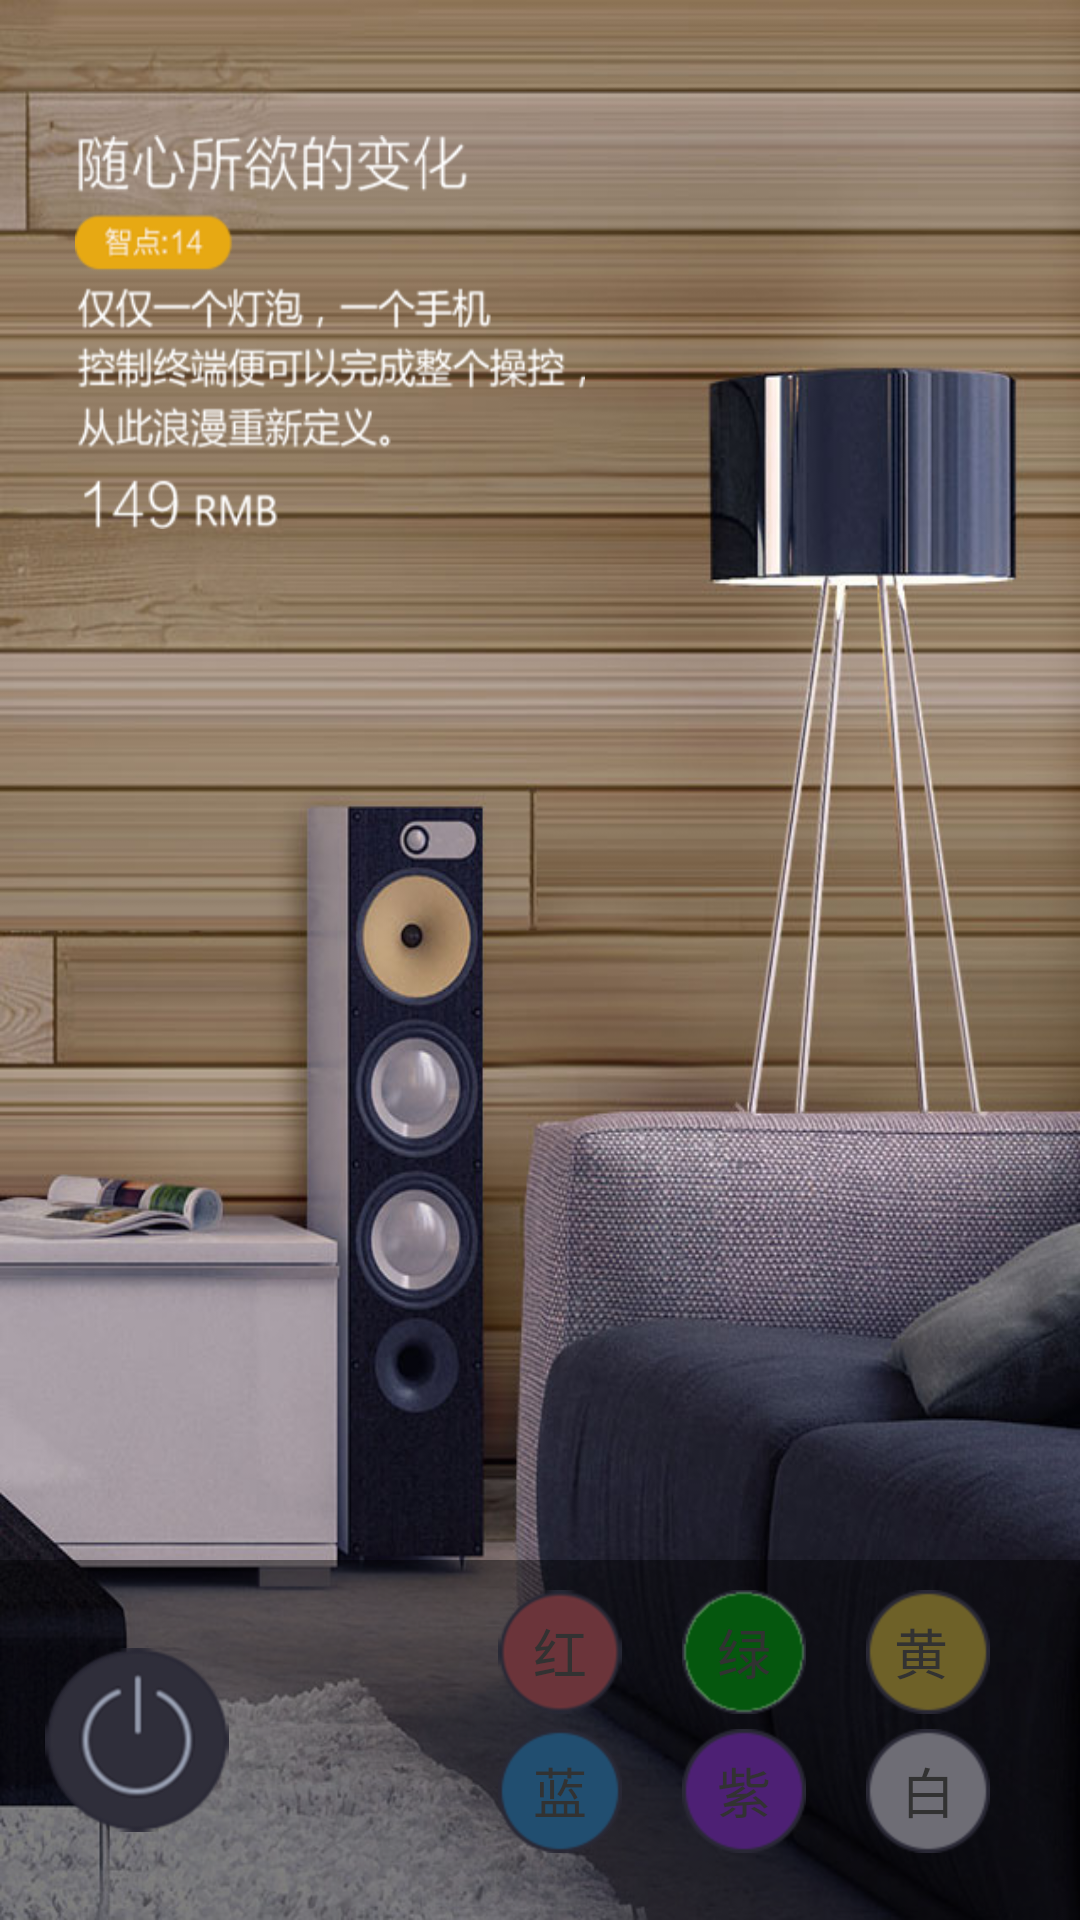

Named icons in this screenshot (1080x1920) and their centers, (x=x, y=y):
switch: (x=137, y=1740)
